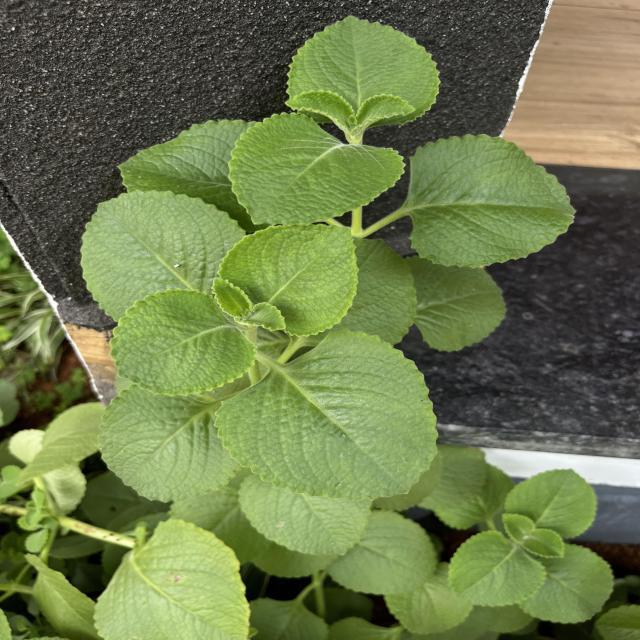Plectranthus barbatus: (211, 328, 439, 502), (408, 131, 579, 270), (79, 190, 248, 323), (226, 110, 408, 228), (91, 515, 251, 640), (284, 13, 442, 128), (97, 382, 244, 504), (114, 116, 266, 230), (216, 222, 360, 338), (108, 287, 258, 397), (238, 470, 374, 557), (407, 254, 508, 354), (326, 508, 438, 596), (516, 542, 616, 625), (447, 529, 548, 607), (504, 468, 597, 540), (522, 528, 567, 559)
